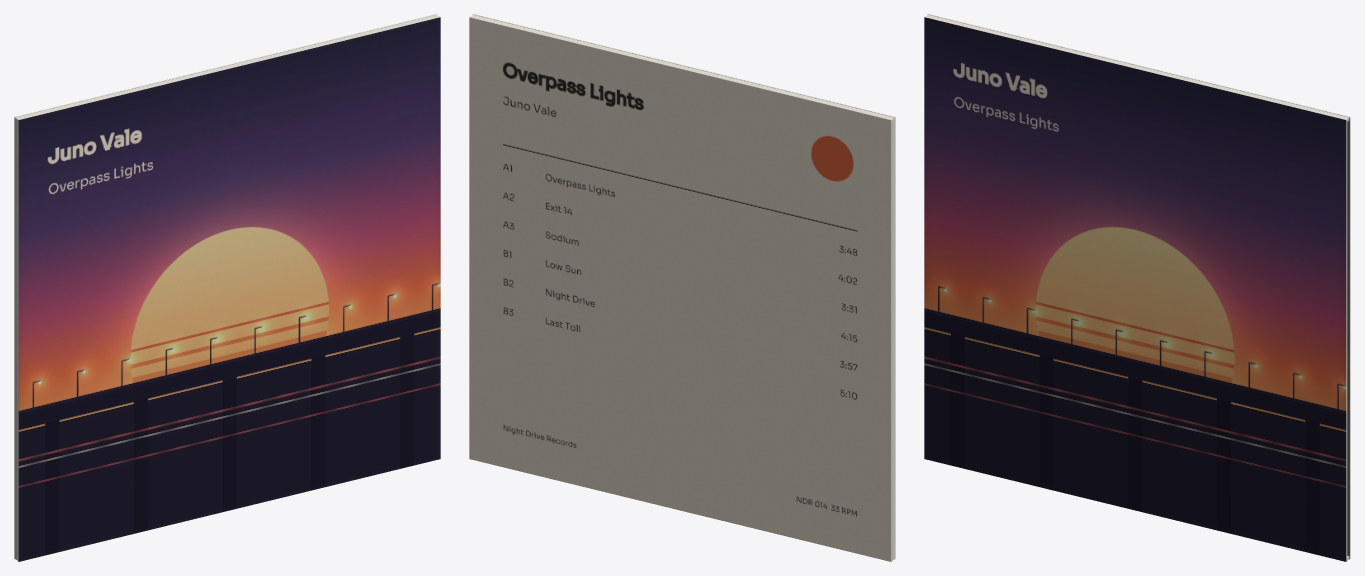
File: vinyl.glb
3 views of the same model, side by side, from view 1: azimuth 30°, elevation 25°; view 2: azimuth 150°, elevation 25°; view 3: azimuth 330°, elevation 25° (orthographic).
Parts seen in each view (by area): view 1: SleeveFrontPanel, SeamTop, SeamLeft, SleeveBackPanel; view 2: SleeveBackPanel, SeamTop, SeamLeft, SleeveFrontPanel; view 3: SleeveFrontPanel, SleeveBackPanel, SeamTop.
Boxes of the visible parts, x1,y1,x2,y2 form: SleeveFrontPanel: (17, 16, 440, 561); SeamTop: (15, 15, 438, 119); SeamLeft: (15, 118, 17, 560); SleeveBackPanel: (14, 14, 436, 559); SleeveBackPanel: (469, 16, 892, 561); SeamTop: (471, 15, 894, 119); SeamLeft: (892, 118, 894, 560); SleeveFrontPanel: (473, 14, 895, 559); SleeveFrontPanel: (924, 16, 1347, 561); SleeveBackPanel: (928, 14, 1350, 559); SeamTop: (926, 15, 1349, 121).
Bounding box in the file's own units: 0.316 × 0.316 × 0.0058.
8 materials, 6 textured.
